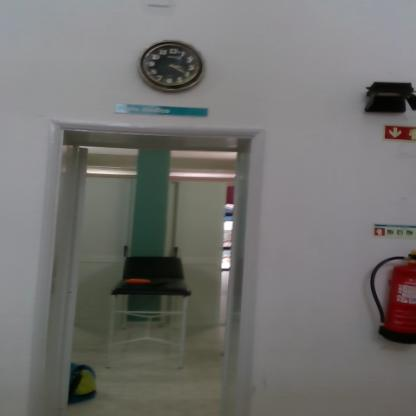open: (46, 117, 274, 412)
